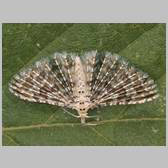Alucitidae: (6, 46, 157, 125)
moth: (8, 48, 159, 127)
